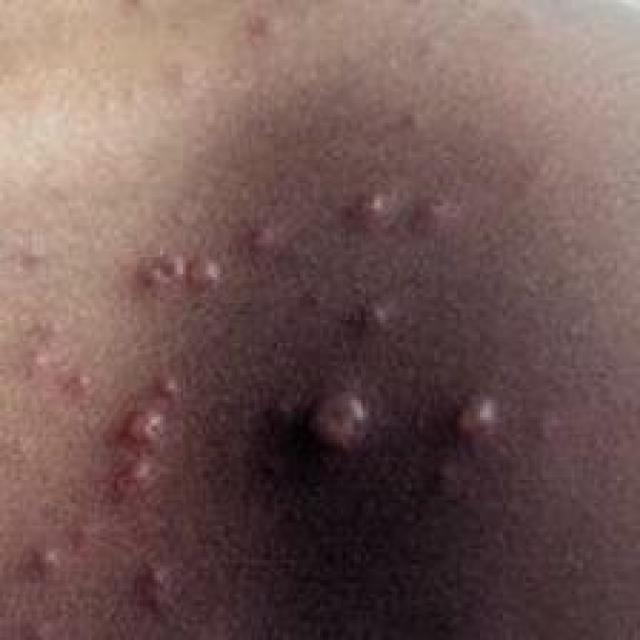others: (0, 2, 569, 627)
